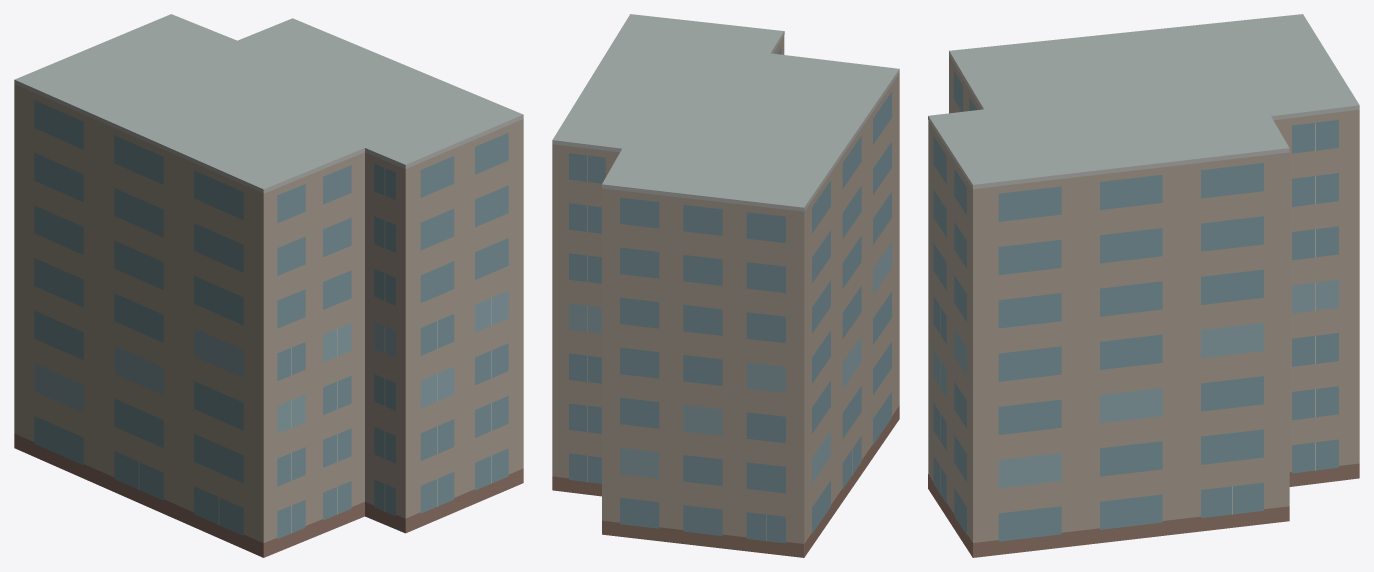
Rendered from survey-upis-32569372.glb.
3 renders of one model, left to right at view 1: azimuth 30°, elevation 25°; view 2: azimuth 150°, elevation 25°; view 3: azimuth 270°, elevation 25°, orthographic. The views are drawn at different scales.
Visible parts, largest first — view 1: survey-upis-32569372.tmp; view 2: survey-upis-32569372.tmp; view 3: survey-upis-32569372.tmp.
Part boxes in pixels (left/top/right/bottom): survey-upis-32569372.tmp: left=14, top=14, right=523, bottom=557; survey-upis-32569372.tmp: left=552, top=14, right=899, bottom=557; survey-upis-32569372.tmp: left=928, top=14, right=1359, bottom=557.
Size of the model in its own units: 20.74 by 21.1 by 22.14.
